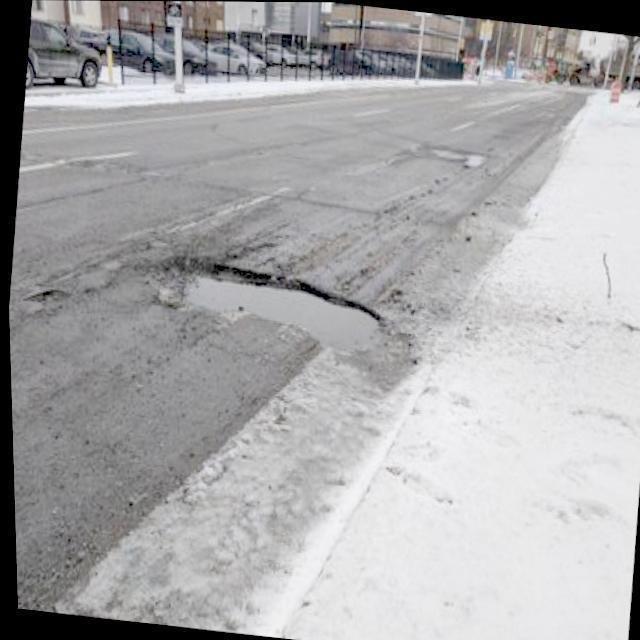Pothole: (181, 264, 384, 348)
